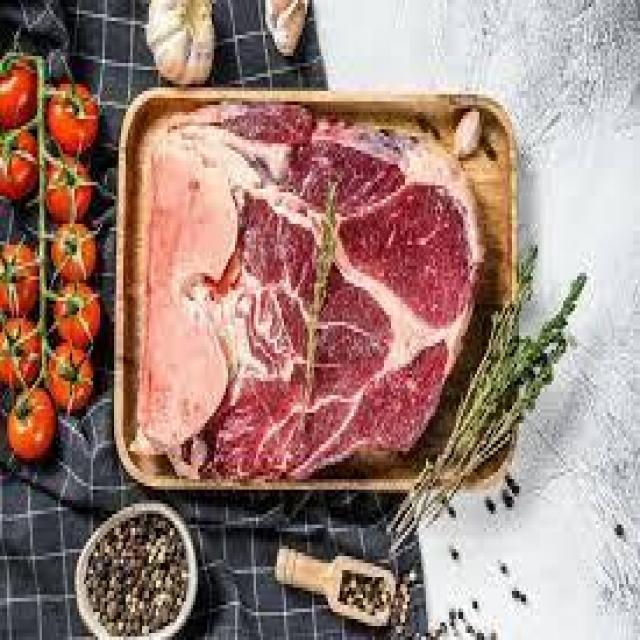beef: (153, 133, 308, 490)
